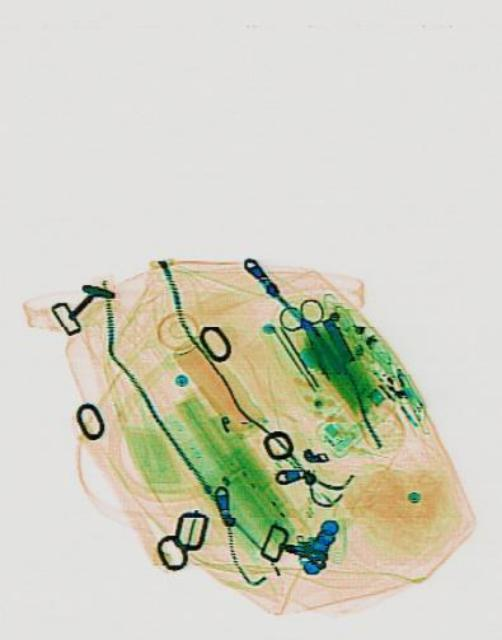Scissors: (274, 289, 344, 389)
